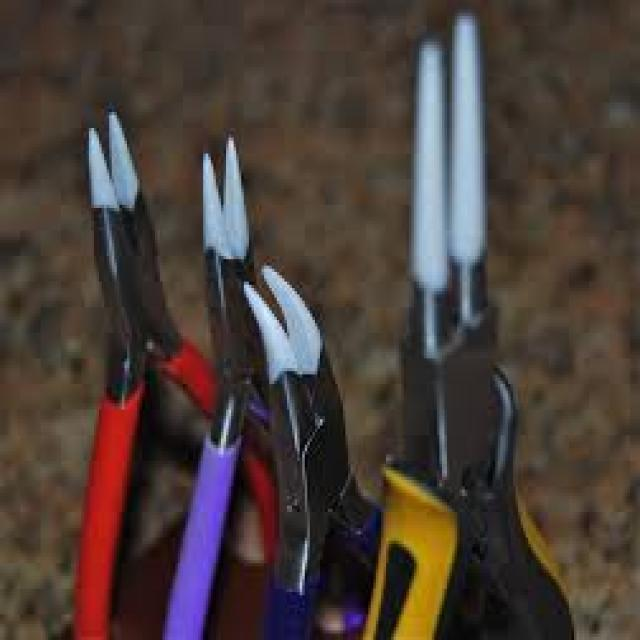pliers: (66, 98, 202, 640), (236, 259, 374, 640), (174, 135, 277, 619)
